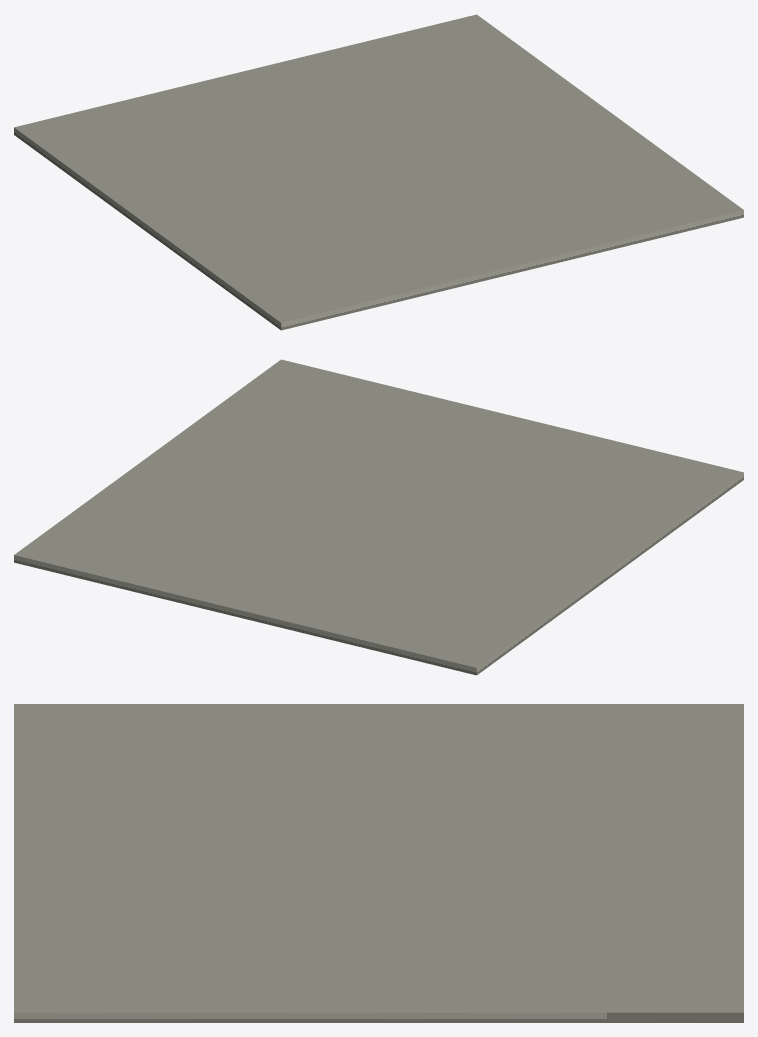
File: ceiling_2c.glb
3 views of the same model, one above another, from view 1: azimuth 30°, elevation 25°; view 2: azimuth 150°, elevation 25°; view 3: azimuth 270°, elevation 25° (orthographic). The views are drawn at different scales.
Parts seen in each view (by area): view 1: ceiling_edge; view 2: ceiling_edge; view 3: ceiling_edge.
Part boxes in pixels (<box>): ceiling_edge: <box>14,14,743,330</box>; ceiling_edge: <box>14,359,743,675</box>; ceiling_edge: <box>14,704,743,1022</box>.
Bounding box in the file's own units: 2 × 0.0538 × 2.
Materials: 1 (1 with a texture image).
